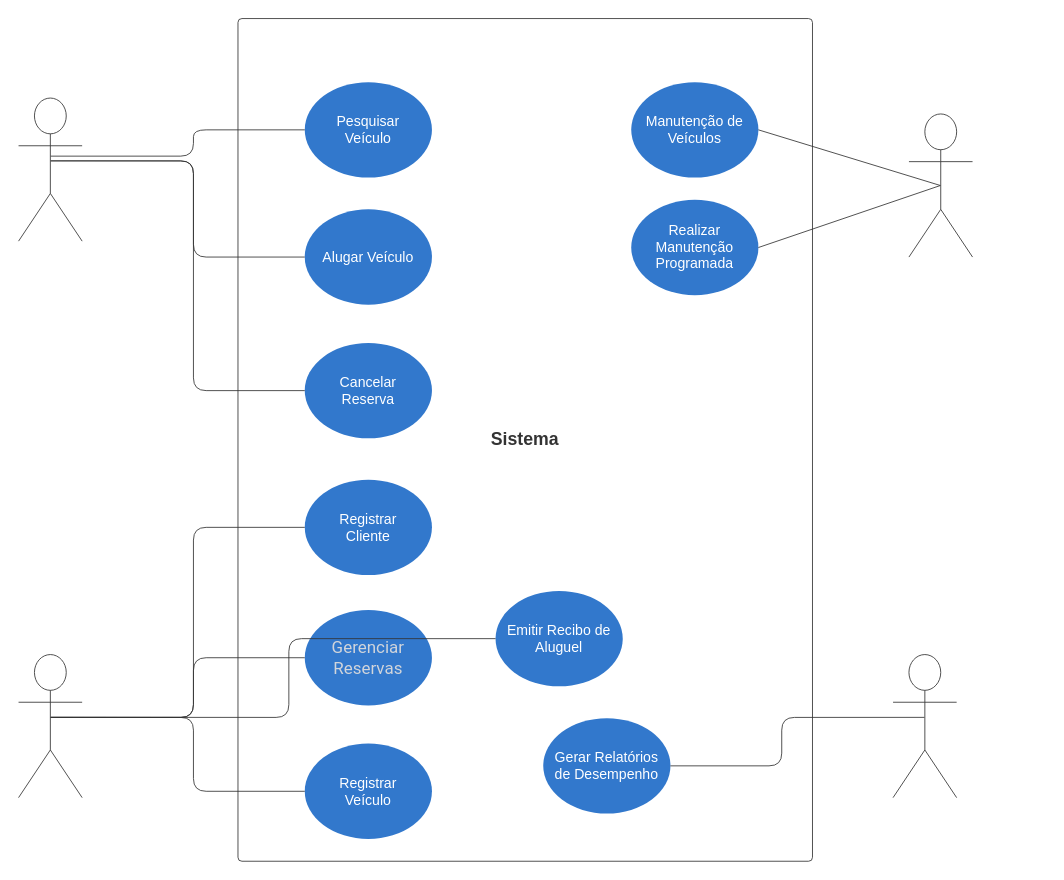
Some shapes in this 1064 by 880 pixel diagram are drawn without their labels. The box of each missing label's shape, as (x1, y1, x2, y2) in pixels:
Atendente: (18, 654, 82, 798)
Cliente: (18, 97, 82, 241)
Gerente da Locadora: (892, 654, 957, 798)
Mecânico da Oficina: (908, 113, 972, 257)
